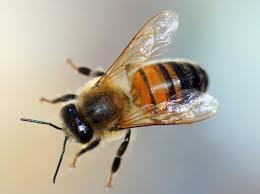worker-bee: (38, 6, 226, 158)
